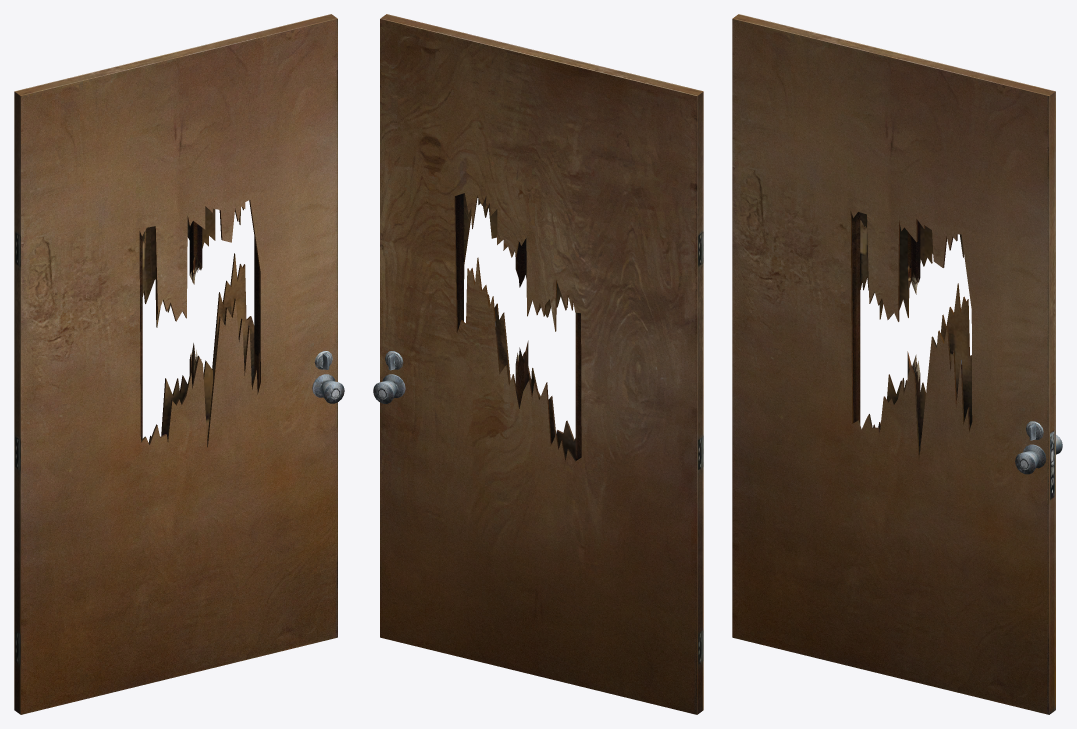
The model's file is doordm_rural01_01.glb.
3 renders of one model, left to right at view 1: azimuth 30°, elevation 25°; view 2: azimuth 150°, elevation 25°; view 3: azimuth 330°, elevation 25°, orthographic.
Visible parts, largest first — view 1: doordm_rural01_01; view 2: doordm_rural01_01; view 3: doordm_rural01_01.
Part boxes in pixels (<box>): doordm_rural01_01: <box>14,14,344,714</box>; doordm_rural01_01: <box>373,14,703,714</box>; doordm_rural01_01: <box>732,14,1062,714</box>.
Size of the model in its own units: 1.06 by 1.98 by 0.1717.
3 materials, 3 textured.
